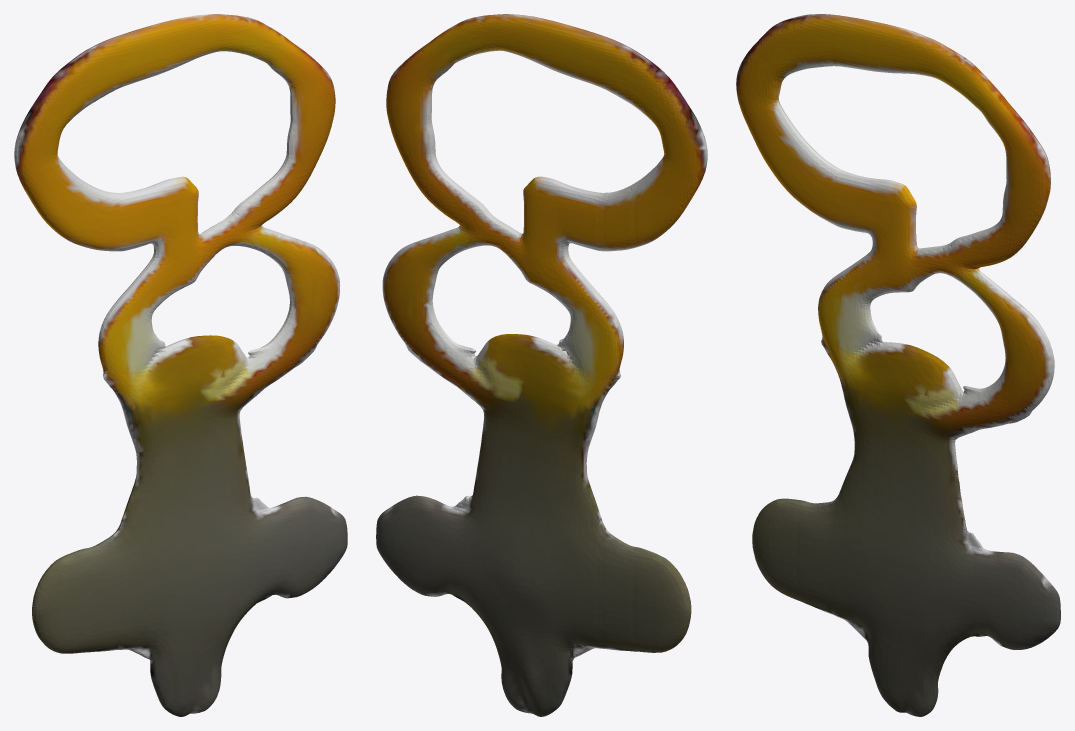
Rendered from amulet_calling_death.glb.
3 views of the same model, side by side, from view 1: azimuth 30°, elevation 25°; view 2: azimuth 150°, elevation 25°; view 3: azimuth 330°, elevation 25° (orthographic). The views are drawn at different scales.
Parts seen in each view (by area): view 1: geometry_0; view 2: geometry_0; view 3: geometry_0.
Boxes of the visible parts, box(x1,y1,x2,y2) form: geometry_0: box(14, 14, 347, 716); geometry_0: box(376, 14, 707, 716); geometry_0: box(736, 14, 1060, 716).
Size of the model in its own units: 0.4038 by 0.8125 by 0.0362.
